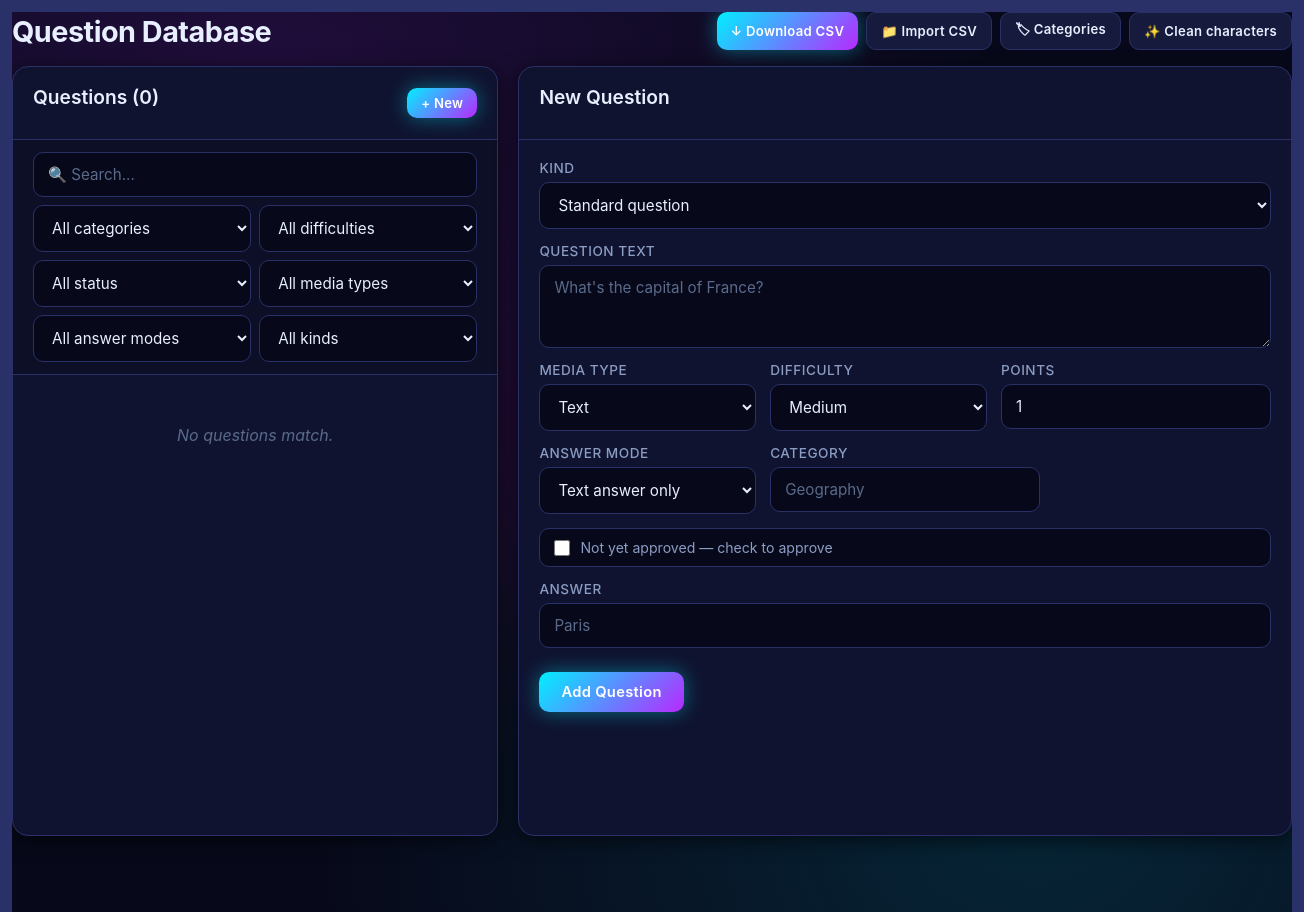
Test: QuestionManager — MCQ answer selection › keeps the free-text fallback for "Both" questions
Select "Both (text + MCQ)" in the dropdown "Text answer only". click: [648, 490]
box: x1=539 y1=467 x2=756 y2=514
(page scrolled)
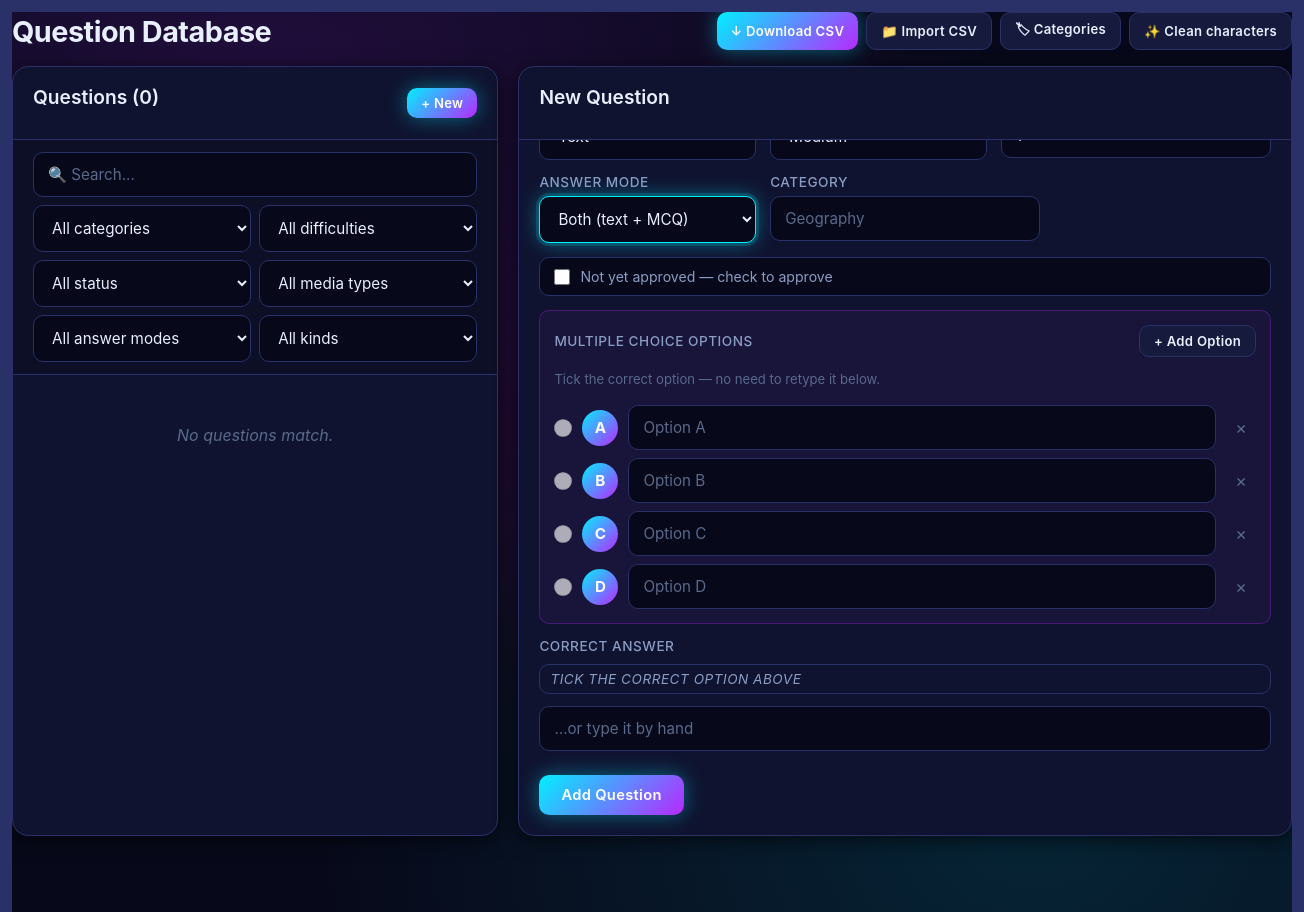
Now the field with placeholder "…or type it by hand" is shown, box x1=539 y1=706 x2=1271 y2=751
